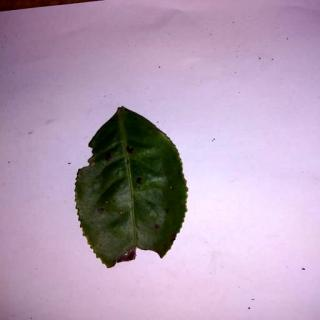Bird Eye Spot: (75, 106, 190, 270)
